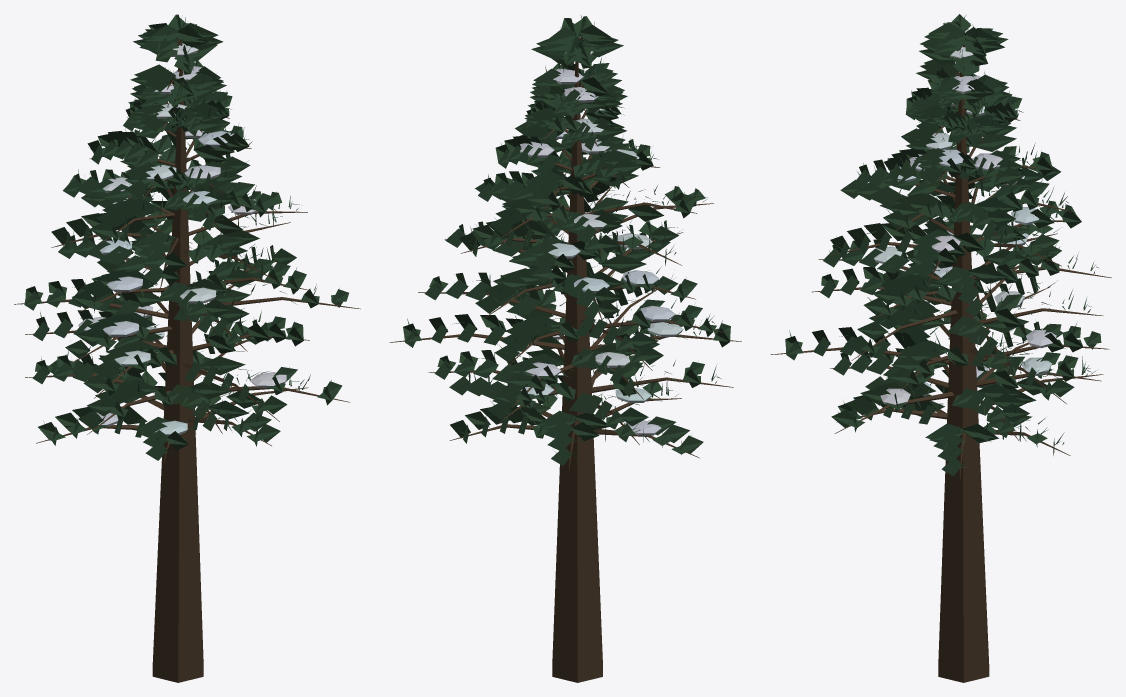
File: pc_pine_2_lod1.glb
3 renders of one model, left to right at view 1: azimuth 30°, elevation 25°; view 2: azimuth 150°, elevation 25°; view 3: azimuth 270°, elevation 25°, orthographic.
Parts seen in each view (by area): view 1: pc_pine_2_lod1; view 2: pc_pine_2_lod1; view 3: pc_pine_2_lod1.
Boxes of the visible parts, x1,y1,x2,y2 form: pc_pine_2_lod1: (14,14,360,682); pc_pine_2_lod1: (389,15,741,682); pc_pine_2_lod1: (770,14,1111,682).
Bounding box in the file's own units: 4.67 × 10.74 × 5.12.
